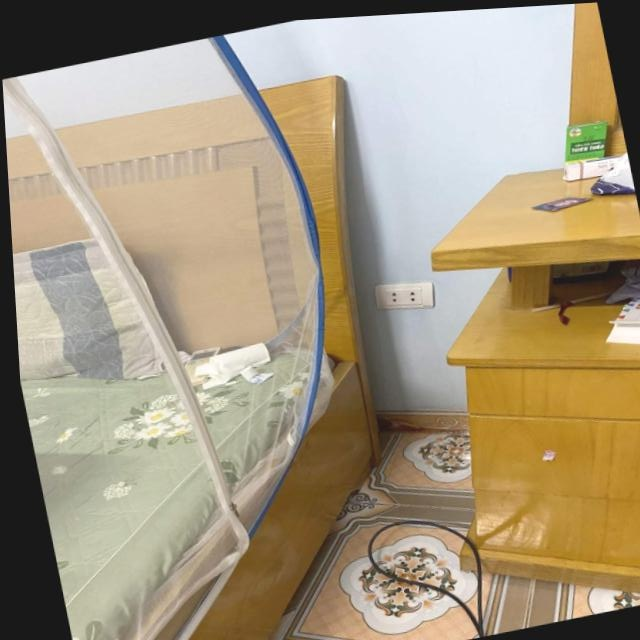outlet: (372, 273, 439, 319)
